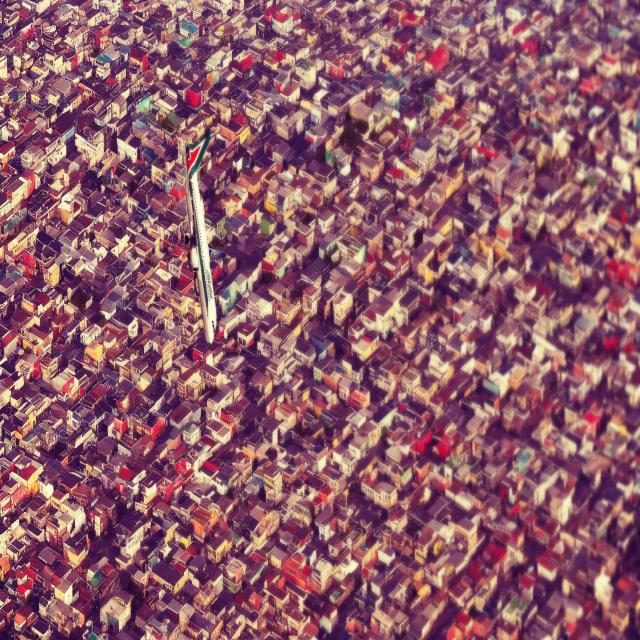airplane: (183, 131, 218, 344)
